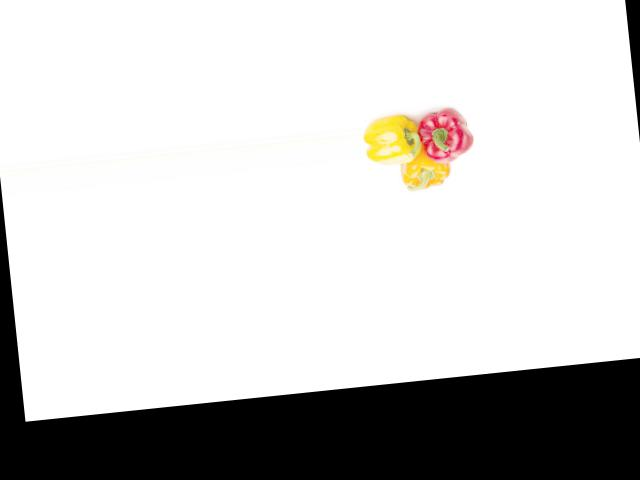bell_pepper: (360, 108, 420, 169)
